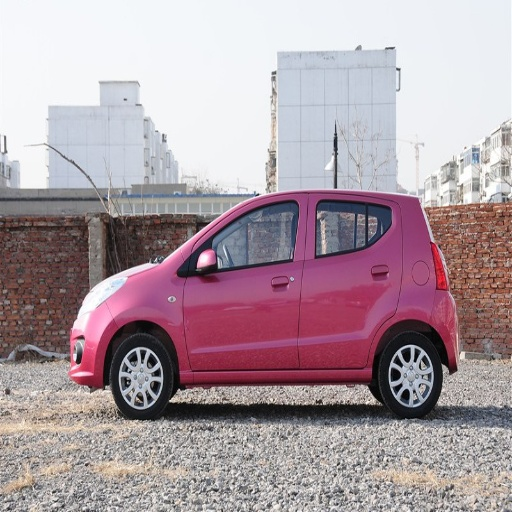back_left_door: (299, 198, 398, 366)
